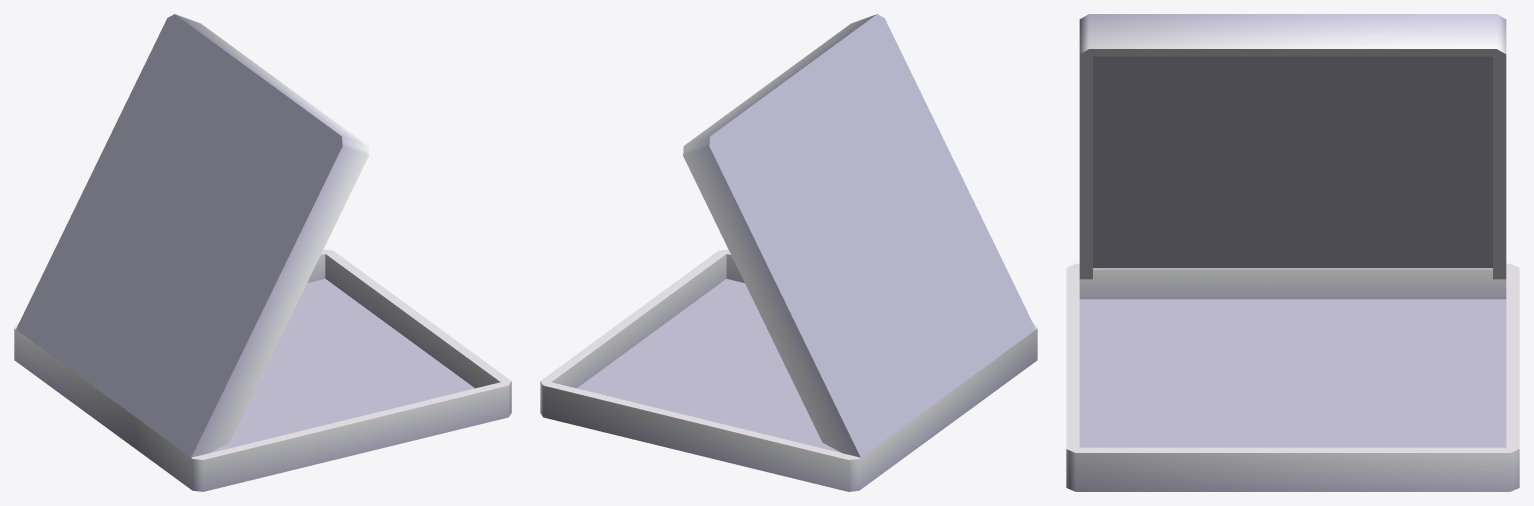
File: pizza-box.glb
The picture shows the model from 3 angles, left to right: view 1: azimuth 30°, elevation 25°; view 2: azimuth 150°, elevation 25°; view 3: azimuth 270°, elevation 25°; orthographic projection. The views are drawn at different scales.
Visible parts, largest first — view 1: lid, pizza-box; view 2: lid, pizza-box; view 3: lid, pizza-box.
Boxes of the visible parts, bbox=[...] form: lid: bbox=[16, 14, 368, 457]; pizza-box: bbox=[14, 249, 511, 491]; lid: bbox=[683, 14, 1035, 457]; pizza-box: bbox=[540, 249, 1037, 491]; lid: bbox=[1079, 14, 1506, 279]; pizza-box: bbox=[1066, 263, 1519, 491].
Size of the model in its own units: 0.9418 by 0.8816 by 0.9518.
Materials: 1 (1 with a texture image).
